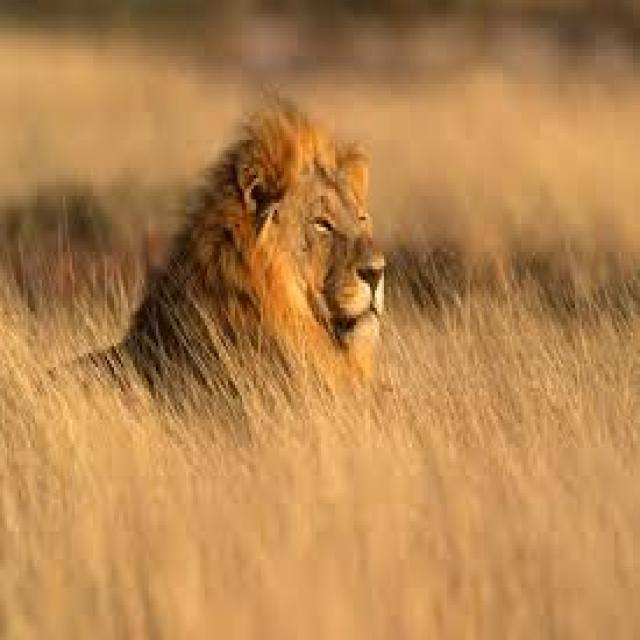Lion: (42, 99, 390, 433)
